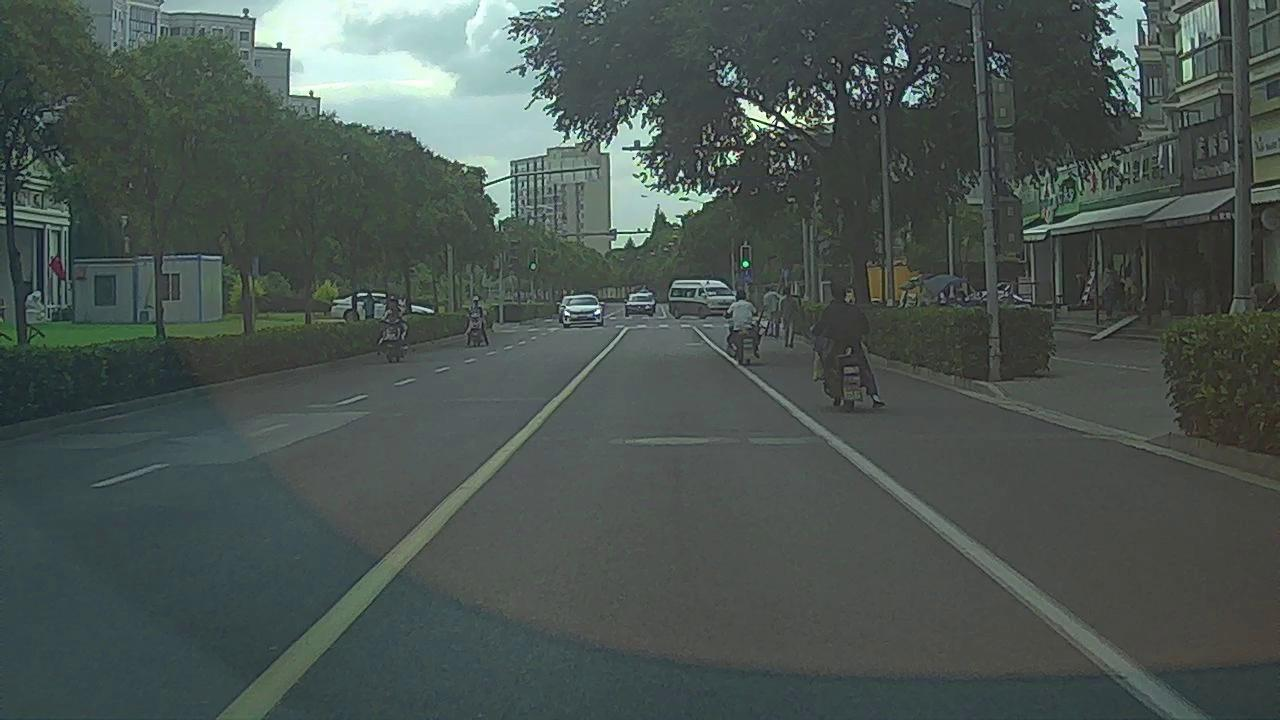traffic_light: (741, 247, 751, 268)
